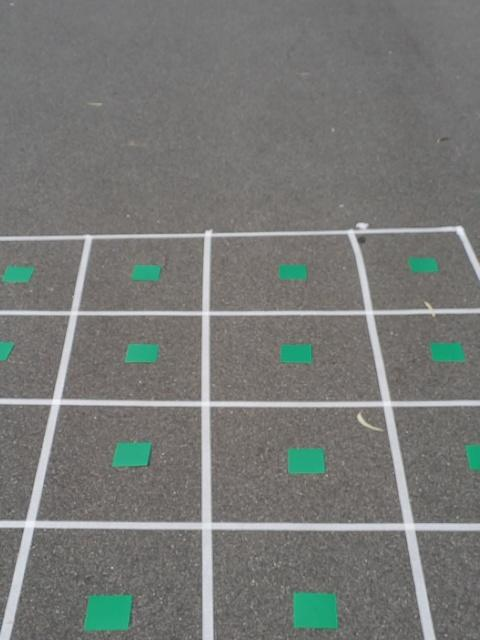weed: (84, 593, 133, 632), (292, 593, 338, 628), (287, 448, 326, 477), (113, 441, 153, 468), (431, 340, 466, 363), (0, 264, 37, 285), (124, 343, 159, 363), (131, 262, 165, 281), (281, 344, 314, 363), (278, 264, 308, 280), (409, 256, 439, 272), (465, 443, 480, 472), (0, 340, 16, 361)
